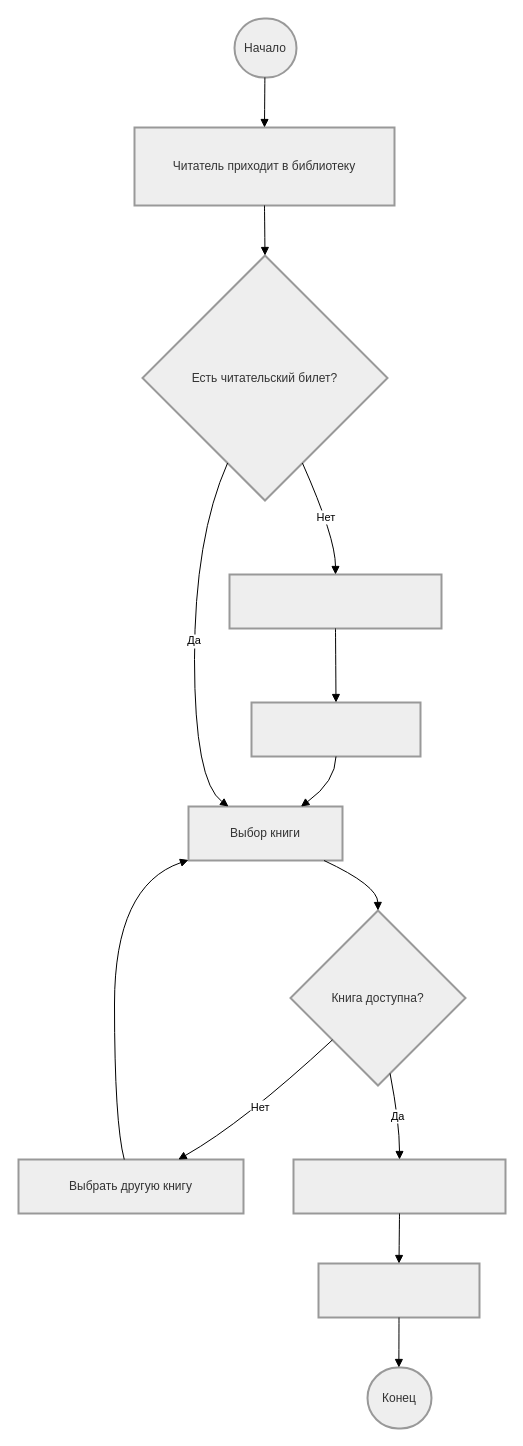
The diagram is 523 pixels wide and 1446 high, and some of its shapes have lost their labels. Each missing label, with the centre of its shape:
"Билет получен" goes at (335,729).
"Выдача книги" goes at (398,1290).
"Оформление билета" goes at (335,601).
"Регистрация выдачи" goes at (399,1186).
